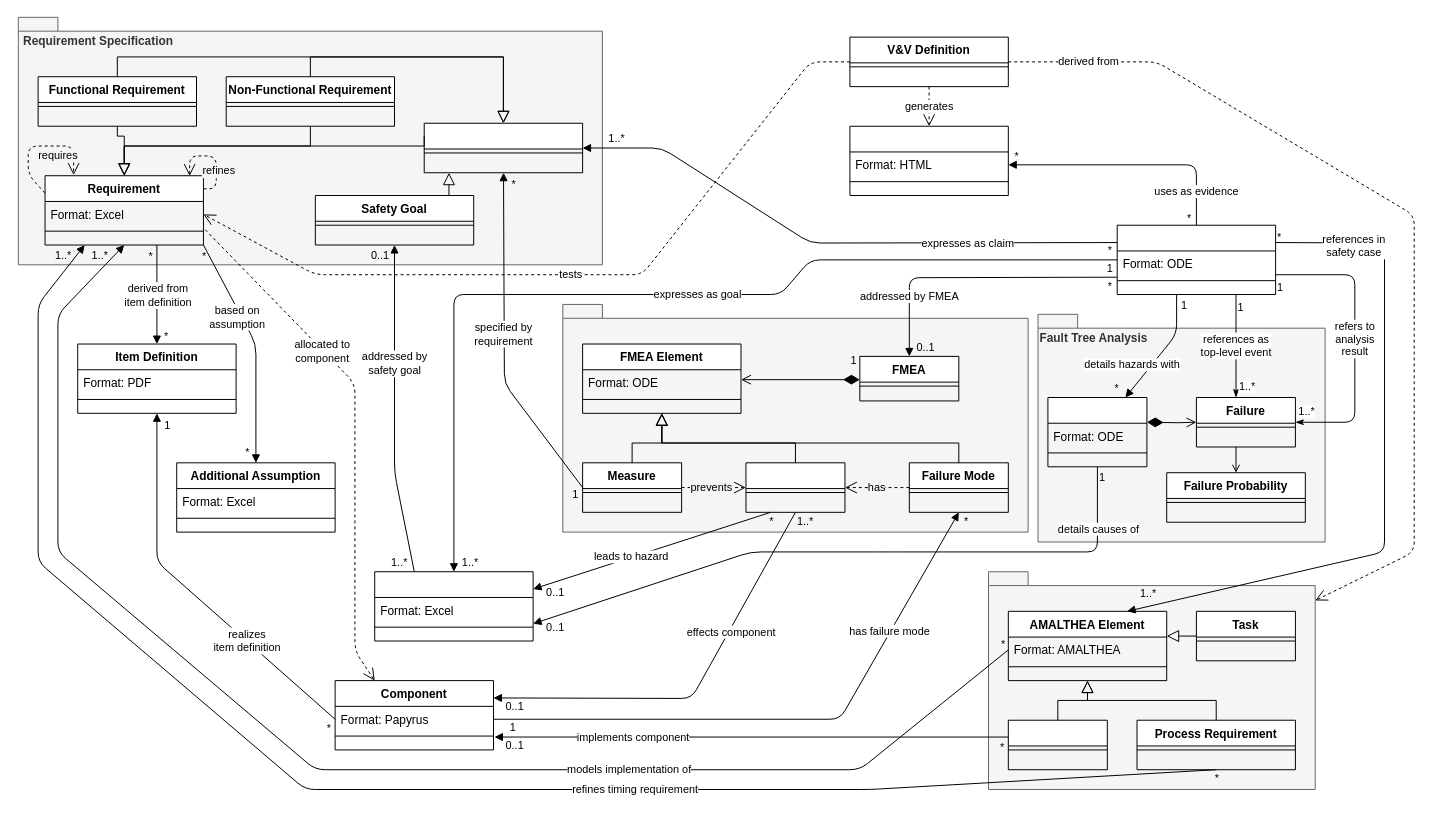
The diagram is 1443 pixels wide and 815 high, and some of its shapes have lost their labels. Each missing label, with the box of its shape:
AMALTHEA Model: (988, 571, 1315, 790)
Effect: (745, 462, 845, 512)
Failure Mode and Effects Analysis: (562, 303, 1028, 532)
FTA: (1047, 396, 1147, 467)
Hazard: (374, 571, 533, 641)
Runnable: (1007, 719, 1107, 770)
Safety Case: (1116, 224, 1276, 295)
Safety Requirement: (423, 122, 583, 173)
V&V Analysis: (849, 125, 1008, 196)
